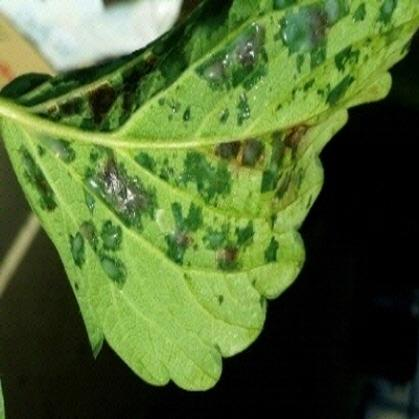Angular Leafspot: (0, 0, 418, 389)
